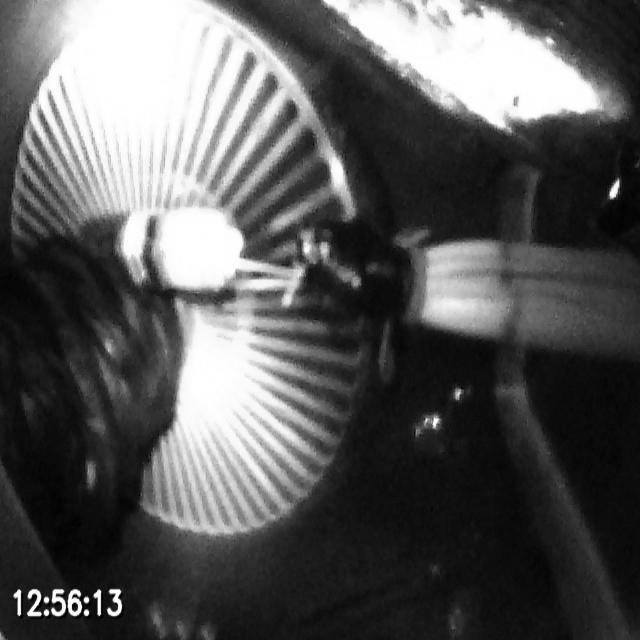head: (116, 208, 245, 295)
